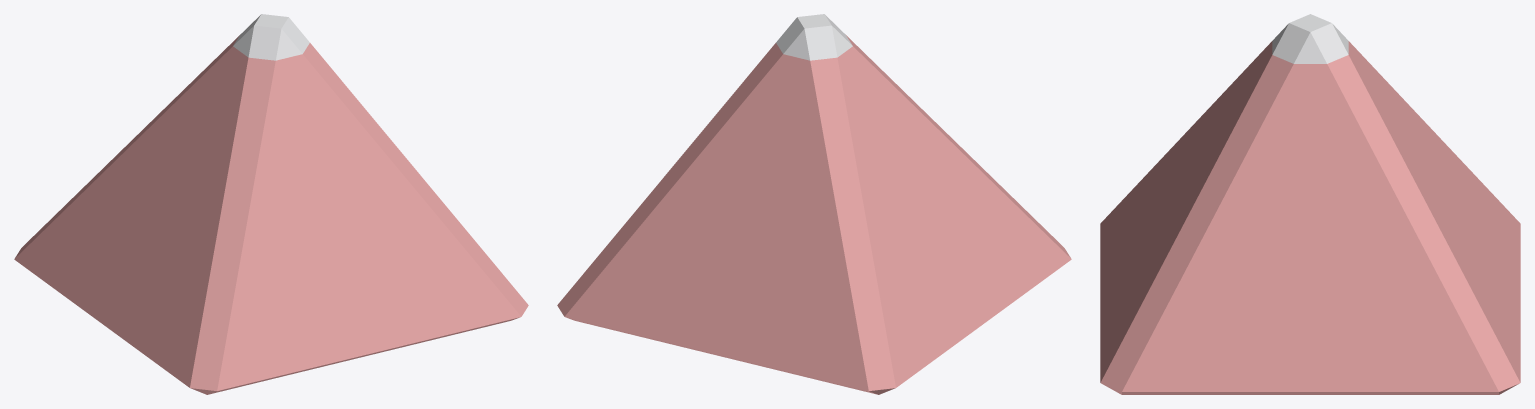
File: Roof_Point_Red_01.glb
3 views of the same model, side by side, from view 1: azimuth 30°, elevation 25°; view 2: azimuth 150°, elevation 25°; view 3: azimuth 270°, elevation 25° (orthographic). The views are drawn at different scales.
Parts seen in each view (by area): view 1: Mesh1 Roof_Point_Red Model; view 2: Mesh1 Roof_Point_Red Model; view 3: Mesh1 Roof_Point_Red Model.
Part boxes in pixels (x1=…): Mesh1 Roof_Point_Red Model: x1=14, y1=14, x2=528, y2=394; Mesh1 Roof_Point_Red Model: x1=557, y1=14, x2=1071, y2=394; Mesh1 Roof_Point_Red Model: x1=1100, y1=14, x2=1520, y2=394.
Size of the model in its own units: 3.34 by 2.56 by 3.34.
